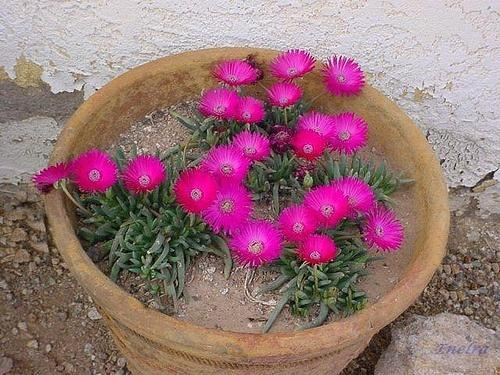pottedplant: (26, 39, 466, 373)
